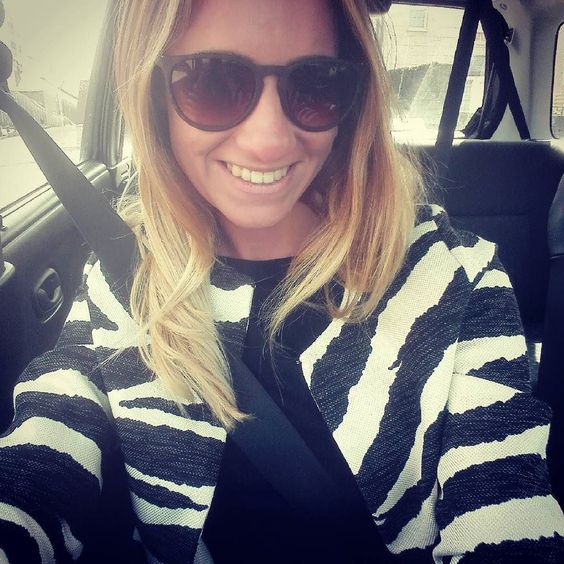sunglasses: (150, 53, 356, 129)
